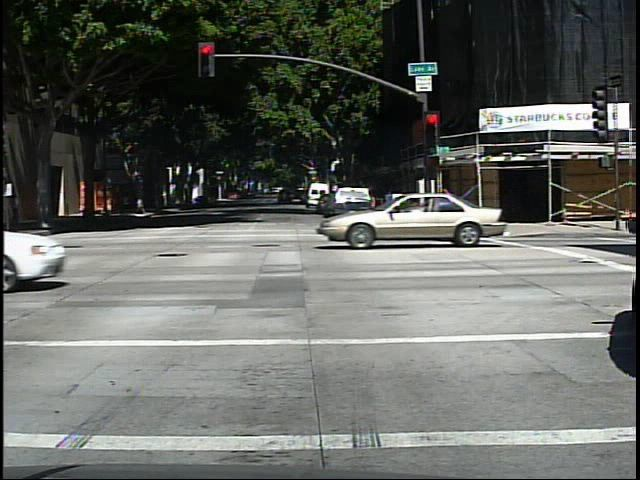person: (5, 189, 22, 242)
